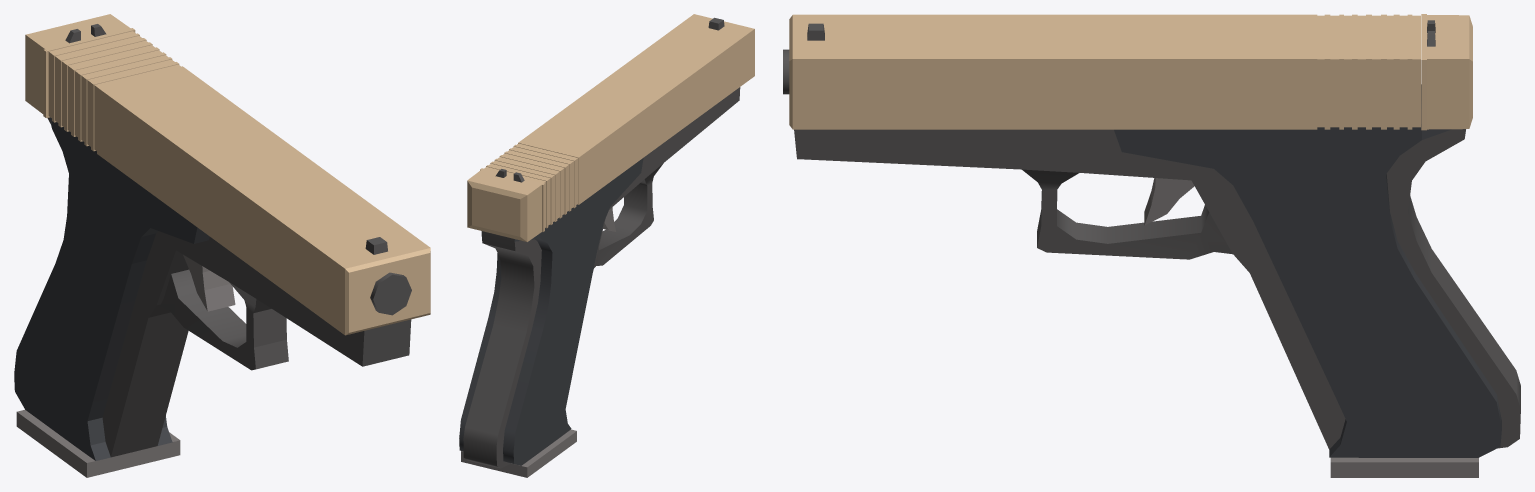
The model's file is weapon_handgun.fbx.
The picture shows the model from 3 angles, left to right: view 1: azimuth 30°, elevation 25°; view 2: azimuth 150°, elevation 25°; view 3: azimuth 270°, elevation 25°; orthographic projection. The views are drawn at different scales.
Parts seen in each view (by area): view 1: weapon_handgun; view 2: weapon_handgun; view 3: weapon_handgun.
Part boxes in pixels (x1,y1,x2,y2): weapon_handgun: (14, 14, 430, 477); weapon_handgun: (459, 14, 754, 477); weapon_handgun: (783, 14, 1520, 477).
Bounding box in the file's own units: 3.86 × 15.91 × 24.94.
Materials: 1 (1 with a texture image).
